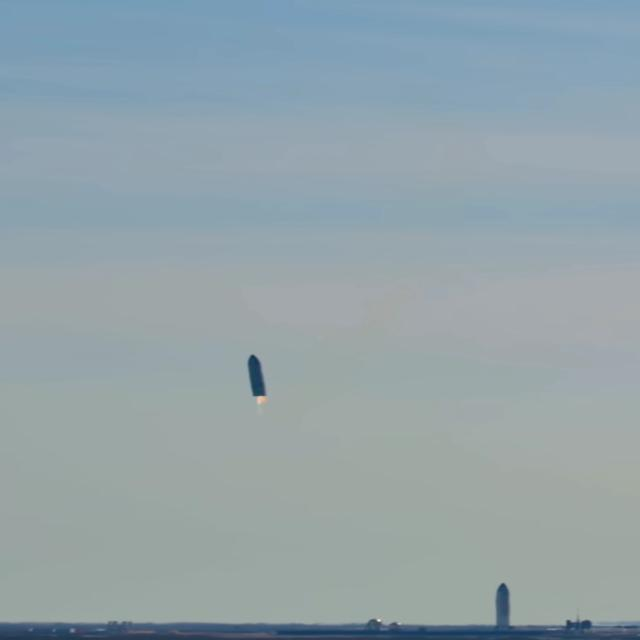missile: (237, 350, 280, 411)
